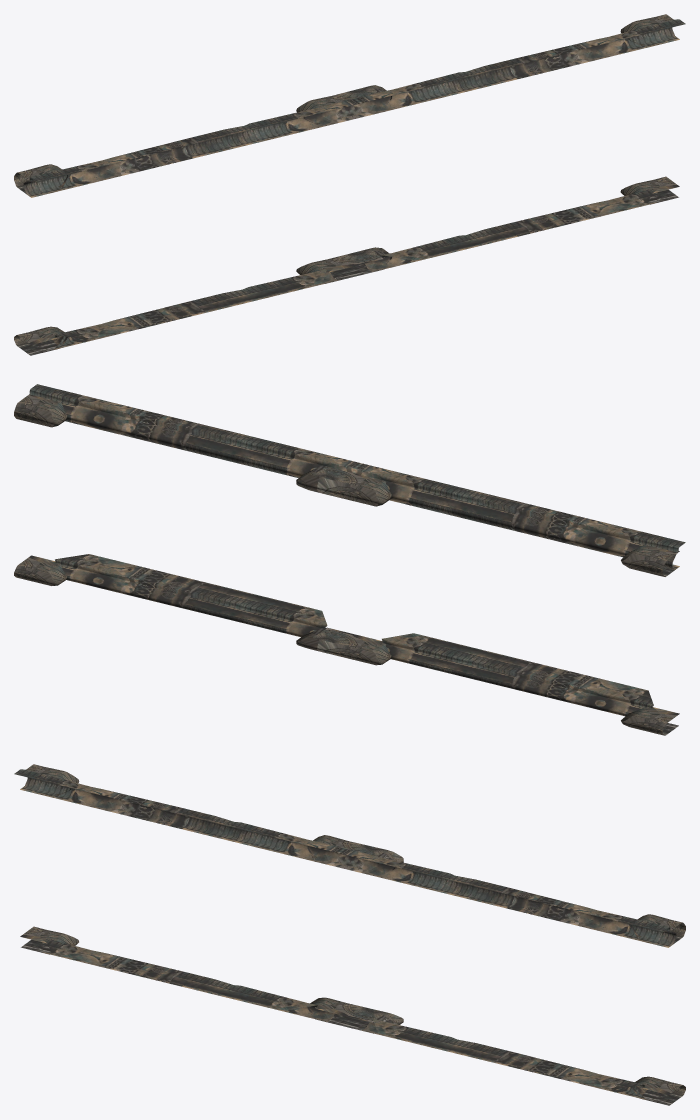
3 views of the same model, one above another, from view 1: azimuth 30°, elevation 25°; view 2: azimuth 150°, elevation 25°; view 3: azimuth 330°, elevation 25° (orthographic).
Parts seen in each view (by area): view 1: SM_DungeonCenser_LOD0; view 2: SM_DungeonCenser_LOD0; view 3: SM_DungeonCenser_LOD0.
Boxes of the visible parts, bbox=[...] form: SM_DungeonCenser_LOD0: bbox=[14, 14, 685, 355]; SM_DungeonCenser_LOD0: bbox=[14, 384, 685, 735]; SM_DungeonCenser_LOD0: bbox=[14, 764, 685, 1105].
Size of the model in its own units: 6 by 1.58 by 0.4792.
